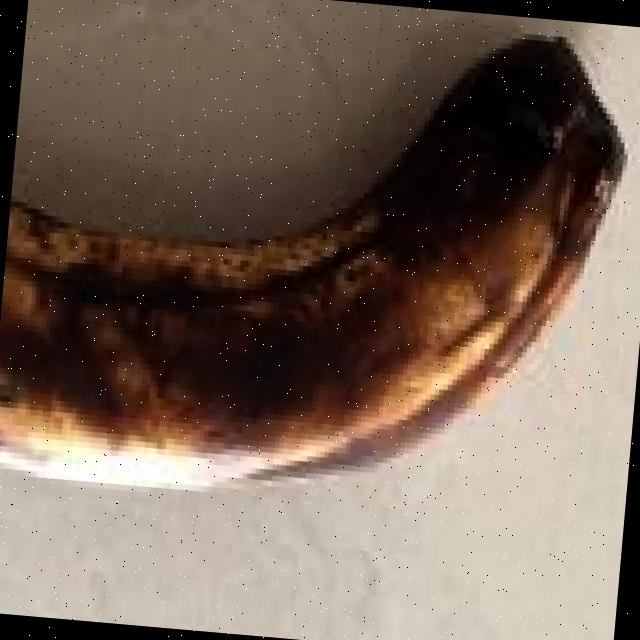Bad_Banana-0 day: (0, 37, 624, 488)
